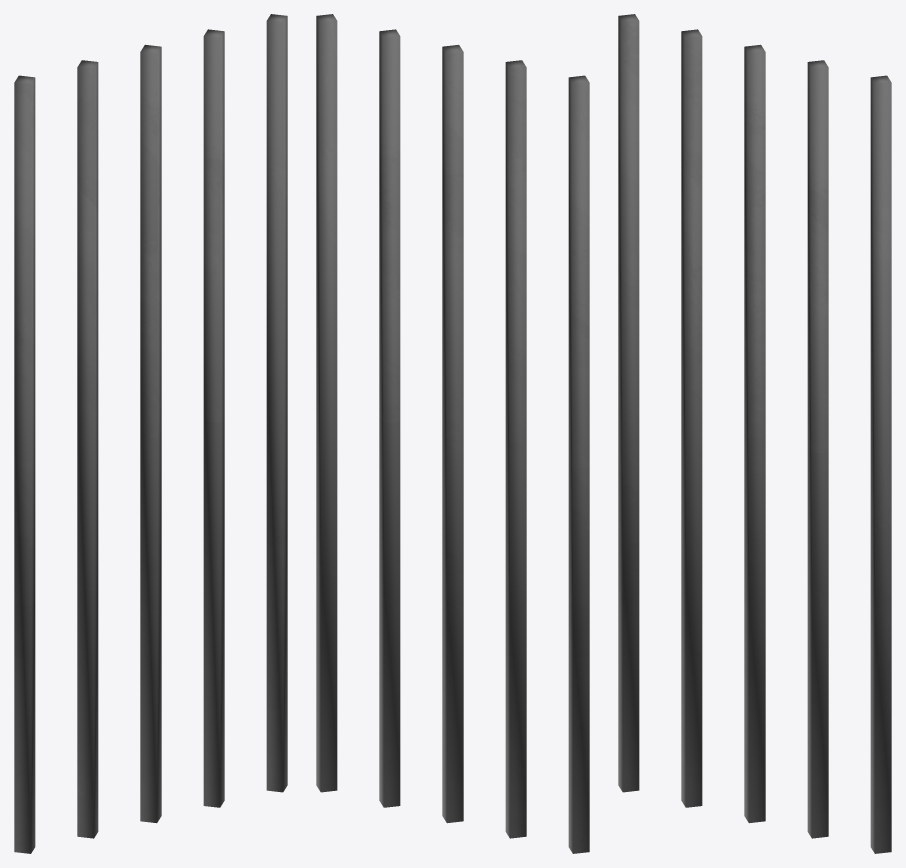
The model's file is Bars.001.fbx.
3 views of the same model, side by side, from view 1: azimuth 30°, elevation 25°; view 2: azimuth 150°, elevation 25°; view 3: azimuth 330°, elevation 25° (orthographic).
Parts seen in each view (by area): view 1: Bars.001; view 2: Bars.001; view 3: Bars.001.
Boxes of the visible parts, left/top/right/bottom form: Bars.001: left=14, top=14, right=287, bottom=853; Bars.001: left=316, top=14, right=589, bottom=853; Bars.001: left=618, top=14, right=891, bottom=853.
Bounding box in the file's own units: 130 × 350 × 10.
